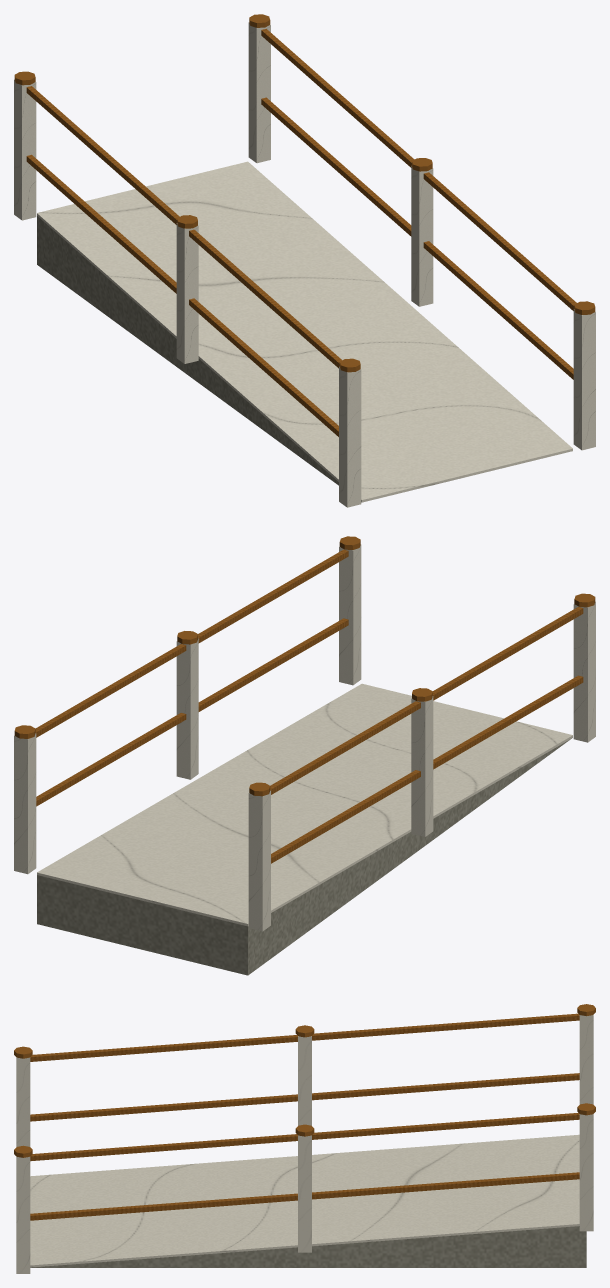
3 views of the same model, one above another, from view 1: azimuth 30°, elevation 25°; view 2: azimuth 150°, elevation 25°; view 3: azimuth 270°, elevation 25° (orthographic). The views are drawn at different scales.
Visible parts, largest first — view 1: LOD1__Separate 20mm marble ramp facing, LOD1__Stone ramp support, LOD1__Continuous bronze guardrail.001, LOD1__Continuous bronze guardrail.003, LOD1__Continuous bronze guardrail.002, LOD1__Continuous bronze guardrail, LOD1__Outside-route guard post, LOD1__Outside-route guard post.003, LOD1__Outside-route guard post.005, LOD1__Outside-route guard post.001, LOD1__Outside-route guard post.004, LOD1__Outside-route guard post.002; view 2: LOD1__Separate 20mm marble ramp facing, LOD1__Stone ramp support, LOD1__Continuous bronze guardrail.003, LOD1__Continuous bronze guardrail.001, LOD1__Continuous bronze guardrail.002, LOD1__Continuous bronze guardrail, LOD1__Outside-route guard post.005, LOD1__Outside-route guard post.002, LOD1__Outside-route guard post.003, LOD1__Outside-route guard post.001, LOD1__Outside-route guard post.004, LOD1__Outside-route guard post; view 3: LOD1__Separate 20mm marble ramp facing, LOD1__Stone ramp support, LOD1__Continuous bronze guardrail.002, LOD1__Continuous bronze guardrail, LOD1__Continuous bronze guardrail.003, LOD1__Continuous bronze guardrail.001, LOD1__Outside-route guard post.005, LOD1__Outside-route guard post.003, LOD1__Outside-route guard post.004, LOD1__Outside-route guard post, LOD1__Outside-route guard post.002, LOD1__Outside-route guard post.001.
Boxes of the visible parts, x1,y1,x2,y2 form: LOD1__Separate 20mm marble ramp facing: [37, 161, 572, 502]; LOD1__Stone ramp support: [37, 216, 338, 485]; LOD1__Continuous bronze guardrail.001: [26, 86, 342, 368]; LOD1__Continuous bronze guardrail.003: [261, 28, 576, 310]; LOD1__Continuous bronze guardrail.002: [261, 97, 573, 379]; LOD1__Continuous bronze guardrail: [26, 154, 338, 436]; LOD1__Outside-route guard post: [339, 366, 361, 507]; LOD1__Outside-route guard post.003: [573, 309, 595, 450]; LOD1__Outside-route guard post.005: [248, 22, 270, 163]; LOD1__Outside-route guard post.001: [176, 223, 198, 363]; LOD1__Outside-route guard post.004: [411, 166, 433, 306]; LOD1__Outside-route guard post.002: [14, 79, 36, 220]; LOD1__Separate 20mm marble ramp facing: [37, 683, 572, 926]; LOD1__Stone ramp support: [37, 738, 571, 975]; LOD1__Continuous bronze guardrail.003: [35, 549, 348, 737]; LOD1__Continuous bronze guardrail.001: [270, 607, 583, 794]; LOD1__Continuous bronze guardrail.002: [36, 618, 348, 806]; LOD1__Continuous bronze guardrail: [271, 675, 583, 863]; LOD1__Outside-route guard post.005: [14, 733, 36, 874]; LOD1__Outside-route guard post.002: [248, 790, 270, 931]; LOD1__Outside-route guard post.003: [339, 544, 361, 685]; LOD1__Outside-route guard post.001: [411, 696, 433, 836]; LOD1__Outside-route guard post.004: [176, 638, 198, 779]; LOD1__Outside-route guard post: [573, 601, 595, 742]; LOD1__Separate 20mm marble ramp facing: [30, 1134, 579, 1267]; LOD1__Stone ramp support: [30, 1226, 586, 1267]; LOD1__Continuous bronze guardrail.002: [30, 1172, 579, 1220]; LOD1__Continuous bronze guardrail: [30, 1073, 579, 1121]; LOD1__Continuous bronze guardrail.003: [30, 1112, 579, 1161]; LOD1__Continuous bronze guardrail.001: [30, 1013, 579, 1061]; LOD1__Outside-route guard post.005: [579, 1114, 593, 1231]; LOD1__Outside-route guard post.003: [16, 1156, 30, 1273]; LOD1__Outside-route guard post.004: [298, 1135, 311, 1252]; LOD1__Outside-route guard post: [16, 1057, 30, 1146]; LOD1__Outside-route guard post.002: [579, 1015, 593, 1104]; LOD1__Outside-route guard post.001: [298, 1036, 311, 1125].
Bounding box in the file's own units: 2.16 × 1.56 × 4.96.
Materials: 3 (3 with a texture image).
